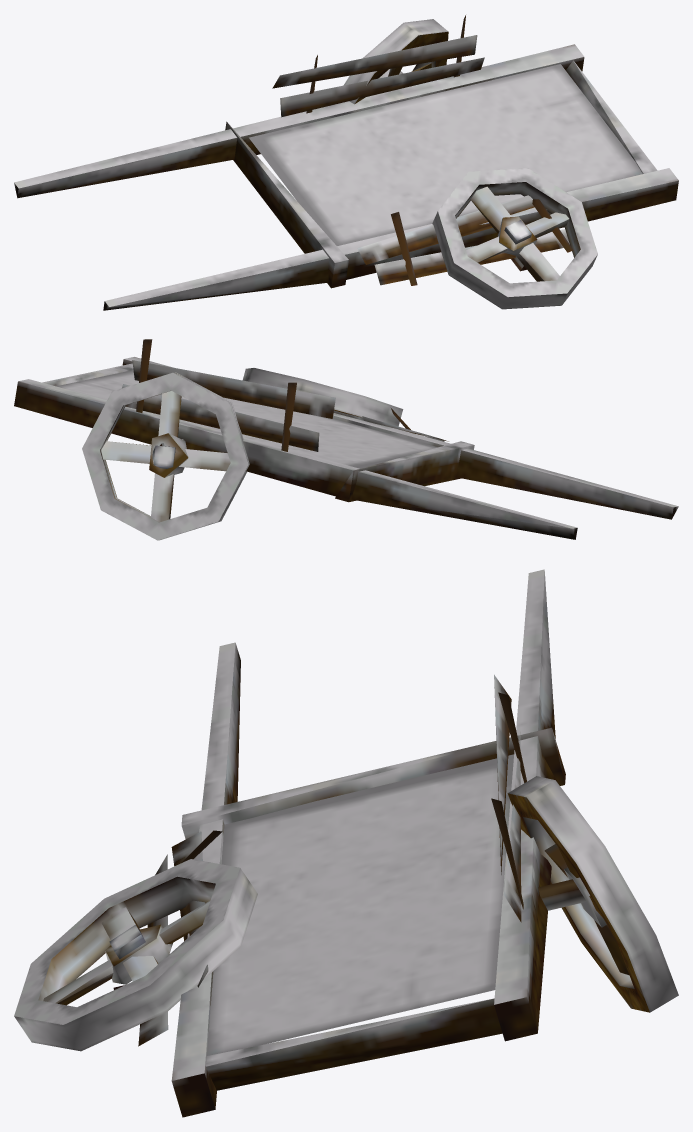
Rendered from nsm-general_obj_21_1_lod_01.glb.
3 renders of one model, top to bottom at view 1: azimuth 30°, elevation 25°; view 2: azimuth 150°, elevation 25°; view 3: azimuth 270°, elevation 25°, orthographic. The views are drawn at different scales.
Visible parts, largest first — view 1: Sphere02; view 2: Sphere02; view 3: Sphere02.
Part boxes in pixels (x1,y1,x2,y2): Sphere02: [14, 15, 678, 310]; Sphere02: [14, 339, 678, 540]; Sphere02: [14, 569, 678, 1117].
Bounding box in the file's own units: 4.87 × 1.44 × 3.09.
Materials: 1 (1 with a texture image).
